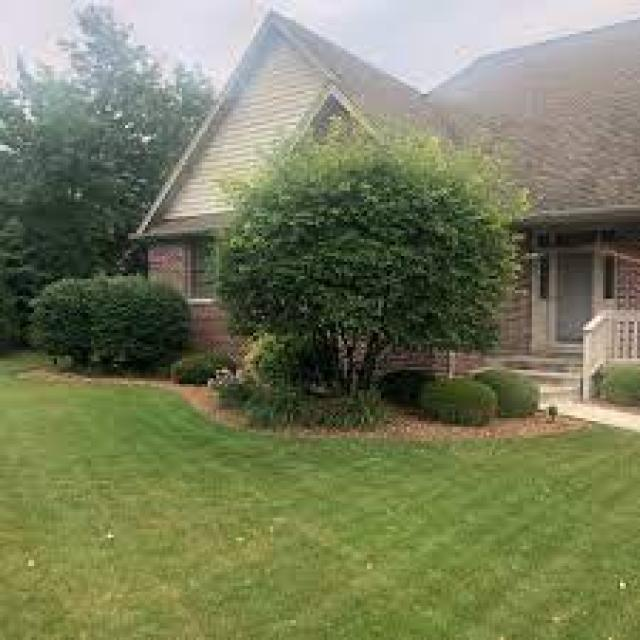House: (15, 3, 638, 388)
